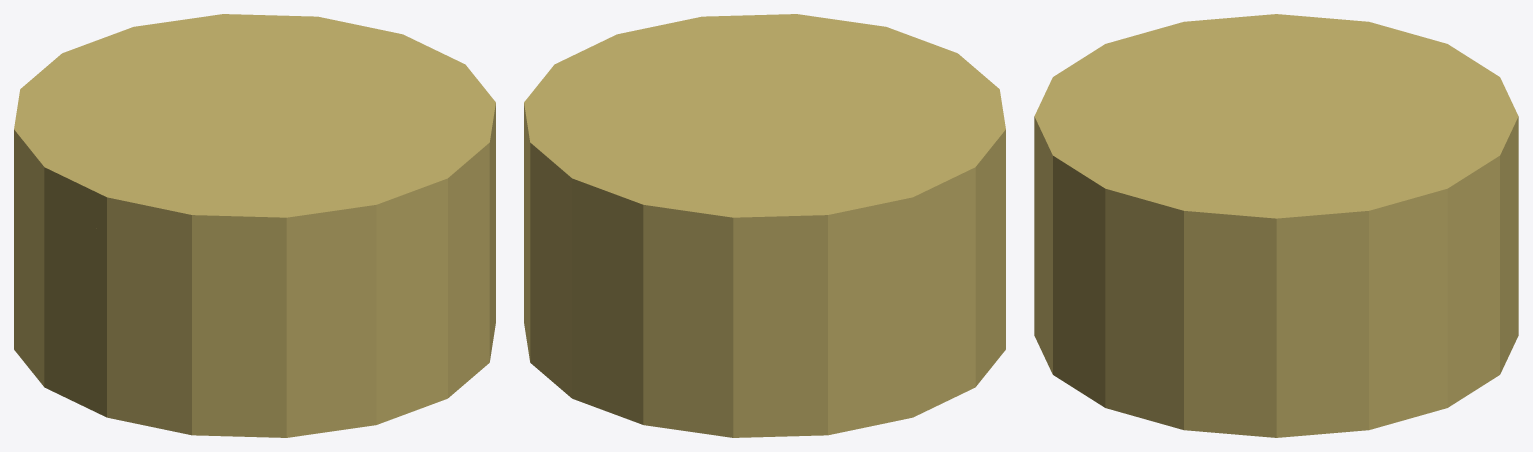
Rendered from coin_stack_gold.glb.
3 renders of one model, left to right at view 1: azimuth 30°, elevation 25°; view 2: azimuth 150°, elevation 25°; view 3: azimuth 270°, elevation 25°, orthographic.
Visible parts, largest first — view 1: world; view 2: world; view 3: world.
Boxes of the visible parts, x1,y1,x2,y2 form: world: [14, 14, 495, 437]; world: [524, 14, 1005, 437]; world: [1034, 14, 1518, 437].
Bounding box in the file's own units: 0.36 × 0.18 × 0.36.
